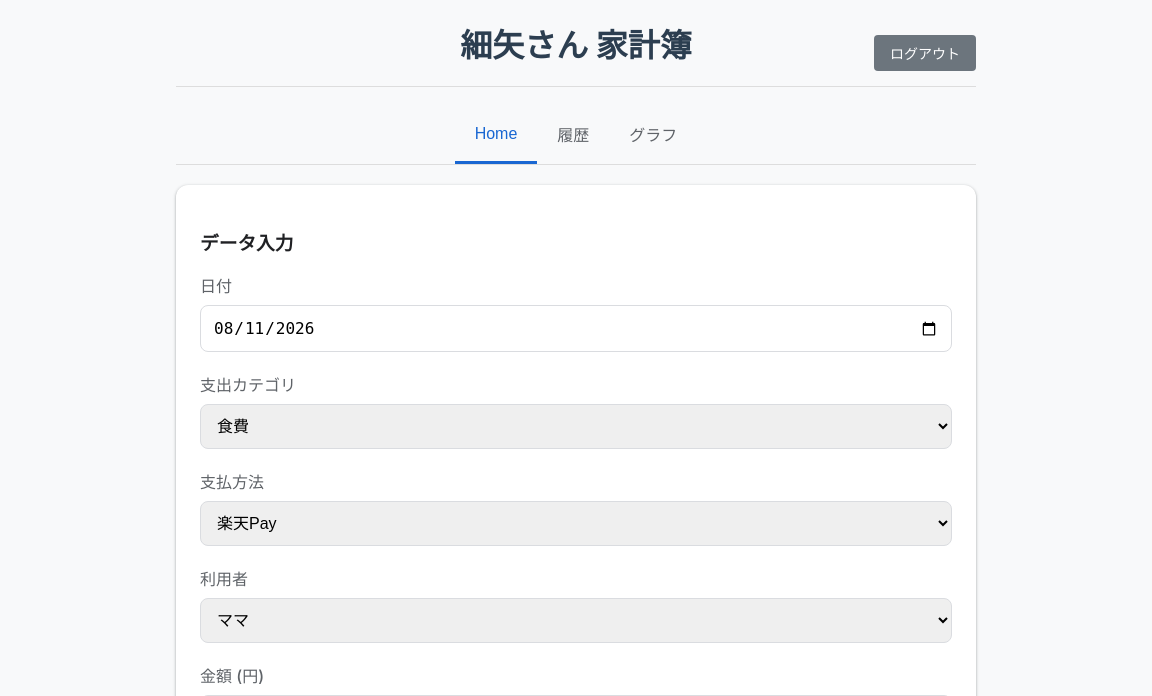
履歴ページにカテゴリ別の集計が出る
The image size is (1152, 696).
What coordinates should you click on to do the following:
click the button "履歴"
I would click on:
 (573, 136)
Its box is [537,107,609,164].
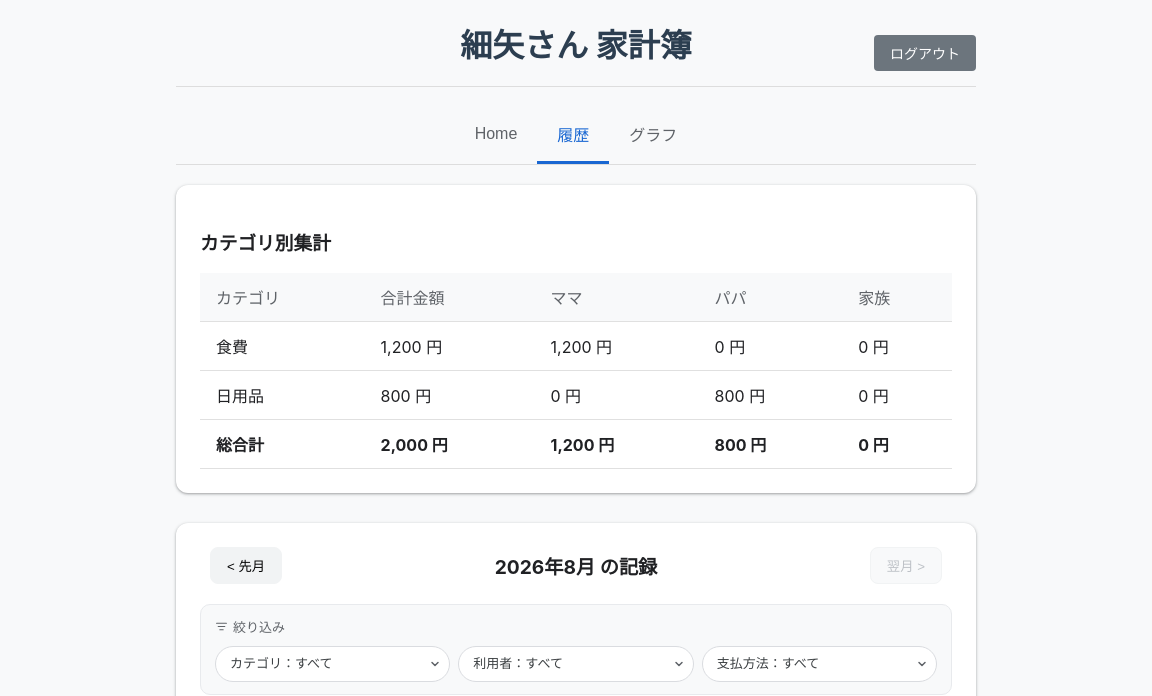
Expected: the heading "カテゴリ別集計" is shown, [200,232,331,255]
Expected: the text "2,000 円" is shown, [381,435,448,455]
